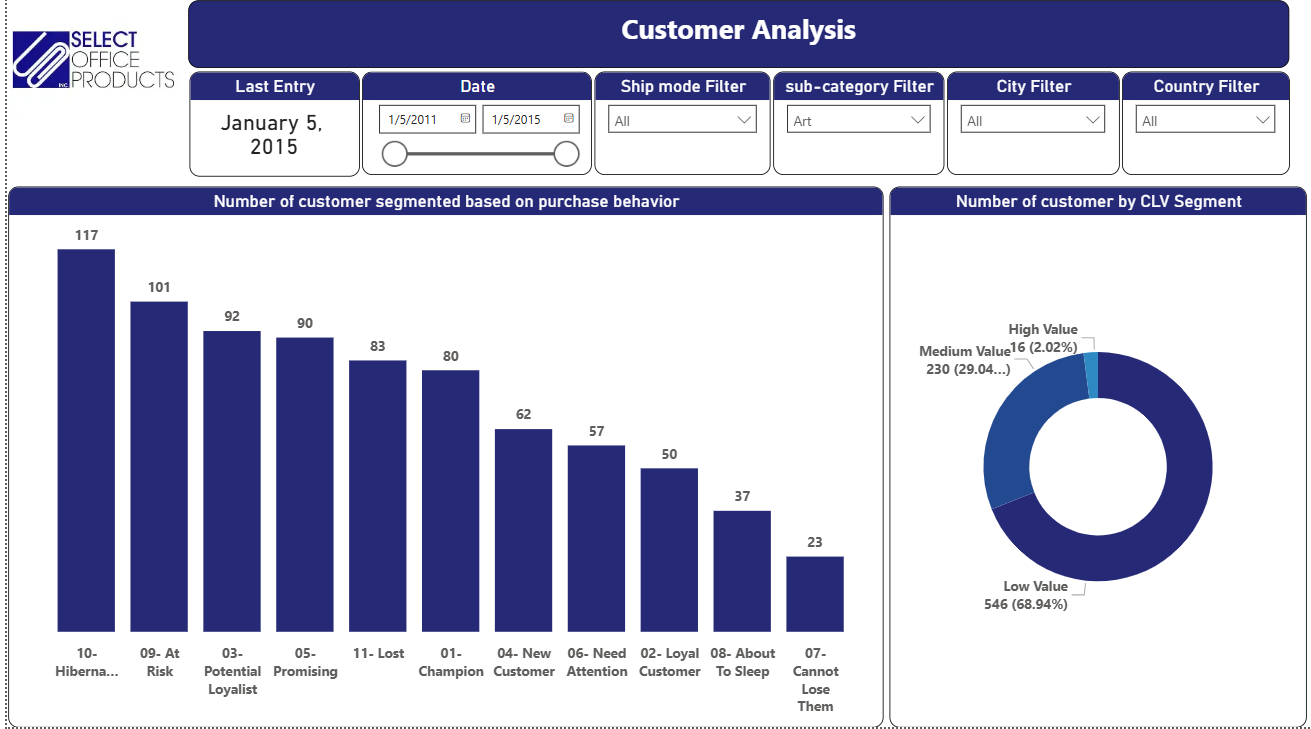

Layout of this report page (visuals, bound fields, positions):
{"tool":"powerbi","page":{"name":"Customer Analysis","canvas":[1280,720],"ordinal":12},"visuals":[{"type":"textbox","box":[177.9,6.1,1081,66.3],"z":0},{"type":"image","box":[0,4.9,169.3,122.7],"z":1000},{"type":"slicer","title":"Country Filter","fields":{"Values":["Country.Country"]},"box":[1094.5,76.1,164.4,101.8],"z":2000},{"type":"slicer","title":"City Filter","fields":{"Values":["City.City"]},"box":[922.7,76.1,169.3,101.8],"z":3000},{"type":"slicer","title":"sub-category Filter","fields":{"Values":["Sub-Category.Sub-Category"]},"box":[752.2,76.1,168.1,101.8],"z":4000},{"type":"slicer","title":"Ship mode Filter","fields":{"Values":["Ship Mode.Ship Mode"]},"box":[576.7,76.1,173,101.8],"z":5000},{"type":"slicer","title":"Date","fields":{"Values":["Dim_date.Date"]},"box":[348.5,76.1,225.8,101.8],"z":6000},{"type":"clusteredColumnChart","title":"Number of customer segmented based on purchase behavior","fields":{"Category":["data.Segment_1"],"Y":["_Measures.num of cust"]},"box":[1.2,189,858.9,531.3],"z":8000},{"type":"donutChart","fields":{"Category":["Customer.CLV Segment"],"Y":["_Measures.num of cust"]},"box":[866.3,189,409.8,531.3],"z":8001},{"type":"card","title":"Last Entry","fields":{"Values":["Max(Dim_date.Date)"]},"box":[179.1,76.1,166.9,103.1],"z":8002}]}

Visuals, with their boxes in screenshot pixels (x1, y1, x2, y2), scaled from the page's 1280x720 canvas onto the 1311x729 screenshot:
textbox: box=[182, 6, 1289, 73]
image: box=[0, 5, 173, 129]
"Country Filter" slicer: box=[1121, 77, 1289, 180]
"City Filter" slicer: box=[945, 77, 1118, 180]
"sub-category Filter" slicer: box=[770, 77, 943, 180]
"Ship mode Filter" slicer: box=[591, 77, 768, 180]
"Date" slicer: box=[357, 77, 588, 180]
"Number of customer segmented based on purchase behavior" clusteredColumnChart: box=[1, 191, 881, 728]
donutChart - Customer.CLV Segment x _Measures.num of cust: box=[887, 191, 1307, 728]
"Last Entry" card: box=[183, 77, 354, 181]
